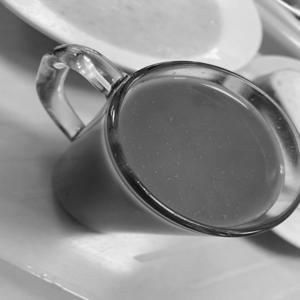cheese_sandwich: (35, 48, 290, 266)
